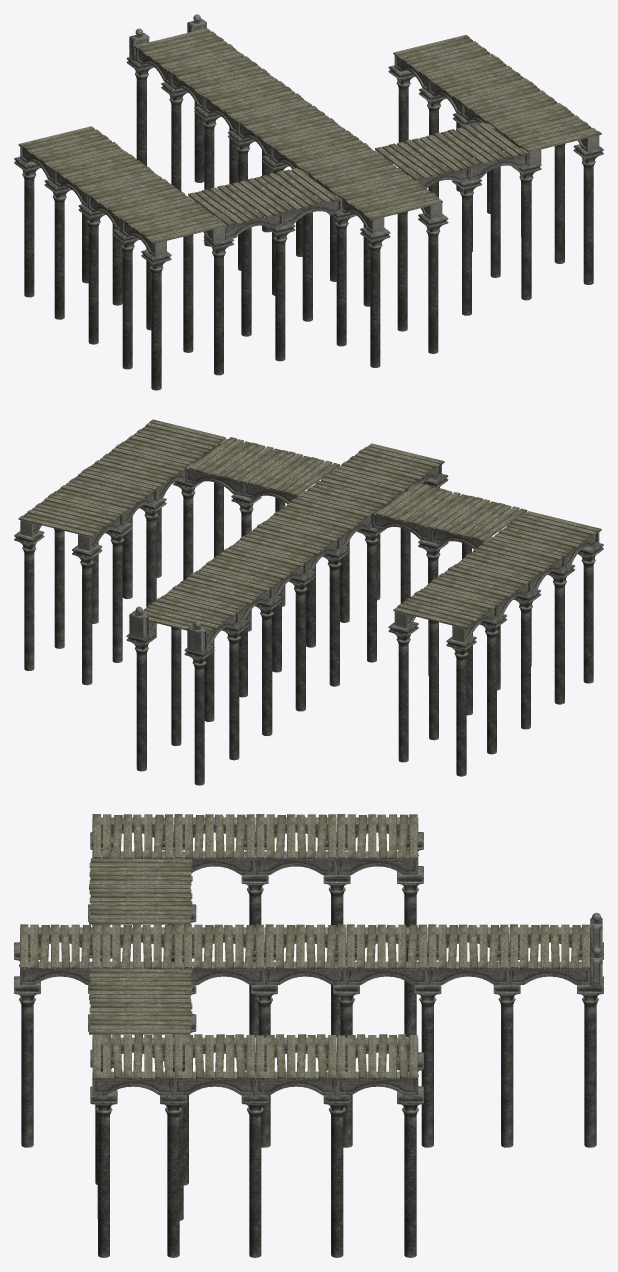
Rendered from wharf.glb.
3 renders of one model, top to bottom at view 1: azimuth 30°, elevation 25°; view 2: azimuth 150°, elevation 25°; view 3: azimuth 270°, elevation 25°, orthographic. The views are drawn at different scales.
Parts seen in each view (by area): view 1: Box185; view 2: Box185; view 3: Box185.
Part boxes in pixels (x1=…): Box185: x1=14, y1=14, x2=603, y2=390; Box185: x1=14, y1=419, x2=603, y2=785; Box185: x1=14, y1=814, x2=603, y2=1257.
Size of the model in its own units: 1548 by 538 by 1453.
Materials: 1 (1 with a texture image).
